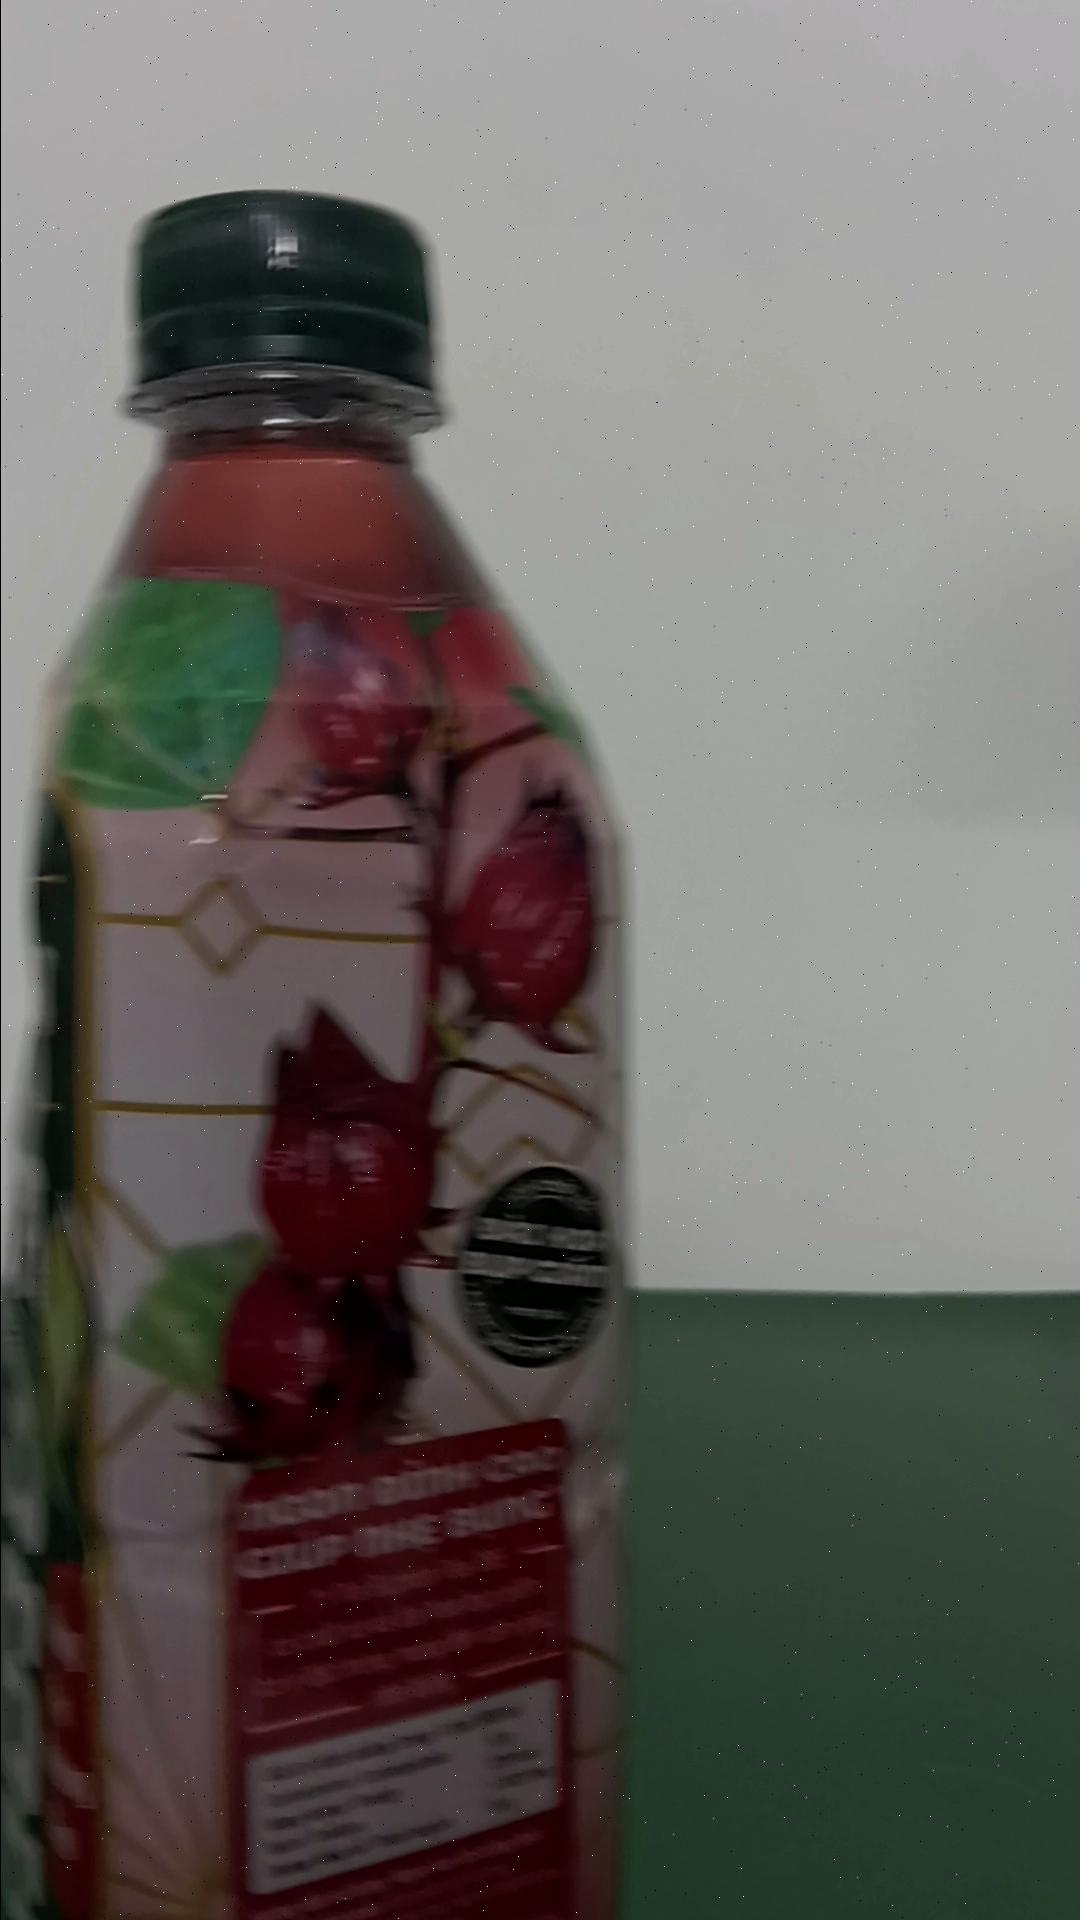loi meo sp: (18, 185, 637, 1913)
